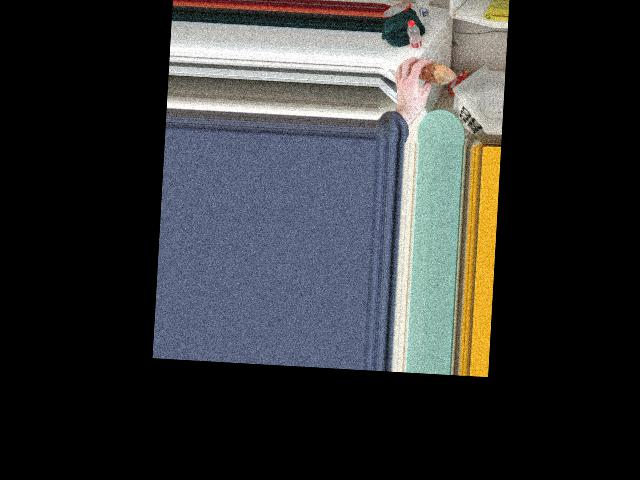sweet_potato: (413, 63, 447, 80)
